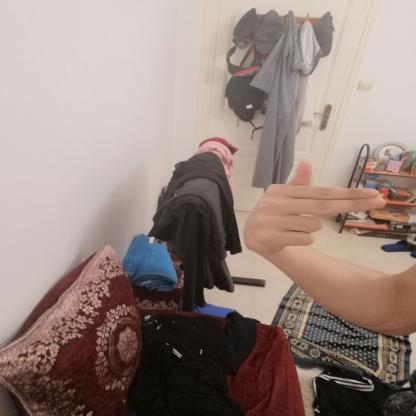GHAYN: (235, 155, 396, 260)
